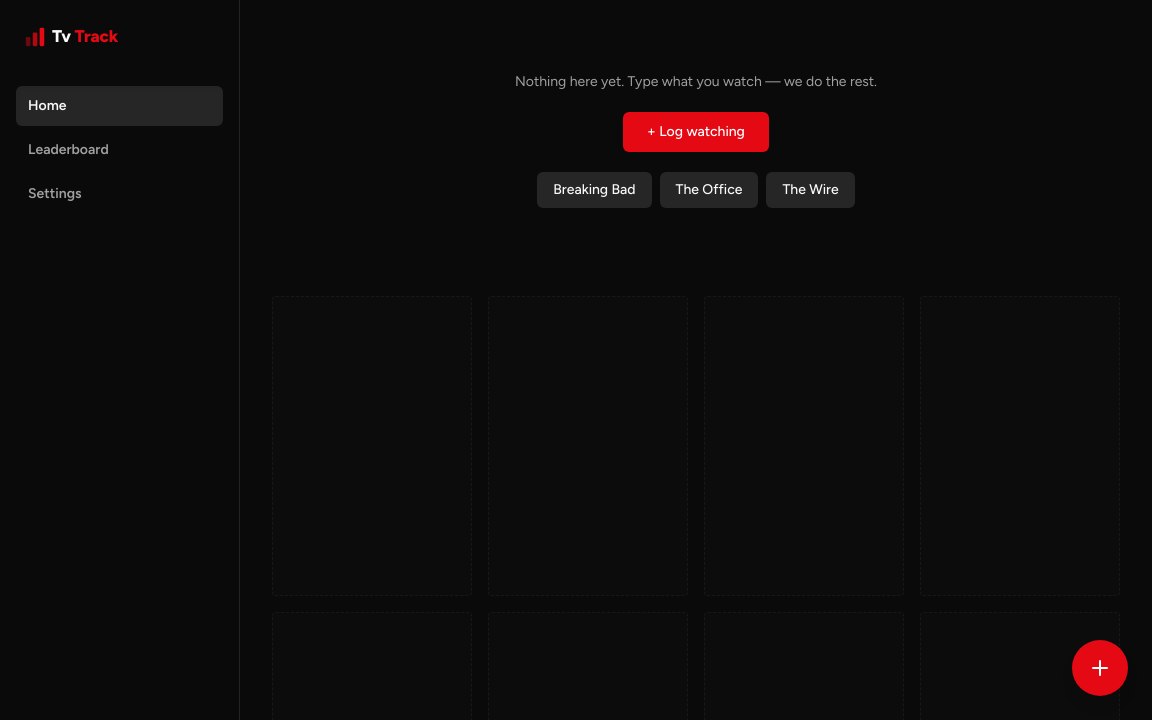
Scenario: Home › opens the Spotlight palette from the poster grid's + Log watching empty-state button too
This screenshot has width=1152, height=720.
expect the text "Nothing here yet. Type what you watch — we do the rest." is shown: met, box x1=515 y1=72 x2=877 y2=92
Click the button "+ Log watching": (696, 132) x1=623 y1=112 x2=769 y2=152
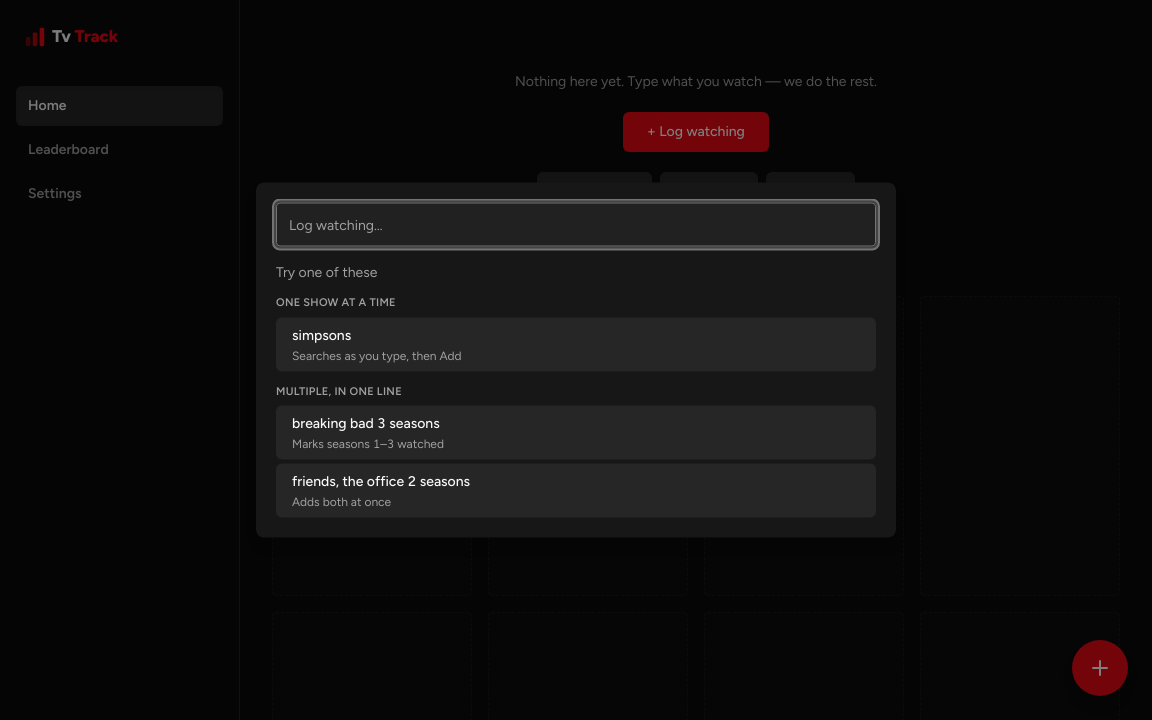
expect the dialog named "Spotlight palette" is shown: met, box x1=256 y1=182 x2=896 y2=538
